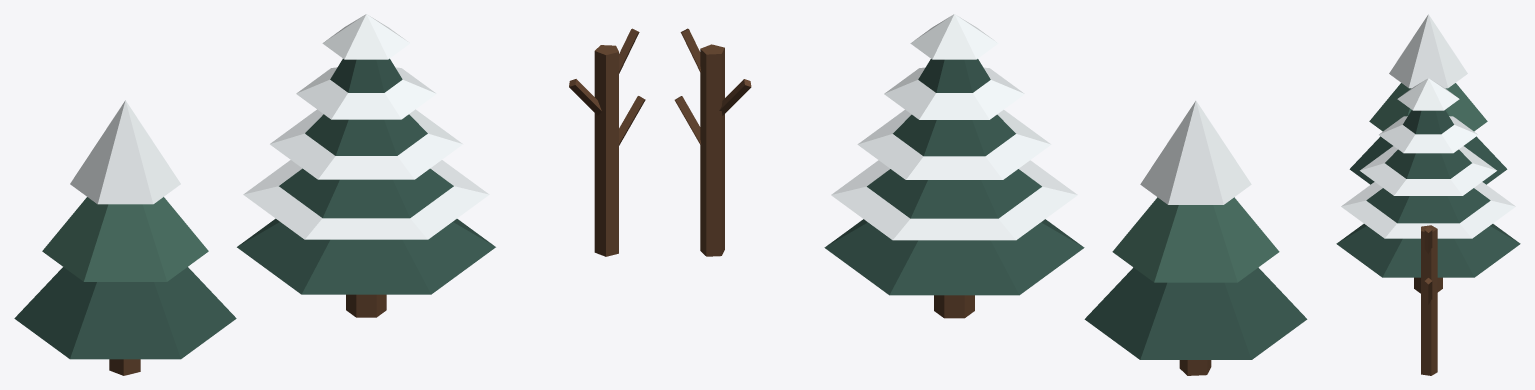
File: tree_variations.glb
3 renders of one model, left to right at view 1: azimuth 30°, elevation 25°; view 2: azimuth 150°, elevation 25°; view 3: azimuth 270°, elevation 25°, orthographic. The views are drawn at different scales.
Visible parts, largest first — view 1: Flocon_Tree_Variations; view 2: Flocon_Tree_Variations; view 3: Flocon_Tree_Variations.
Part boxes in pixels (x1=…): Flocon_Tree_Variations: x1=14, y1=14, x2=645, y2=375; Flocon_Tree_Variations: x1=674, y1=14, x2=1307, y2=375; Flocon_Tree_Variations: x1=1336, y1=14, x2=1520, y2=375.
Bounding box in the file's own units: 7.52 × 3.52 × 2.8.
